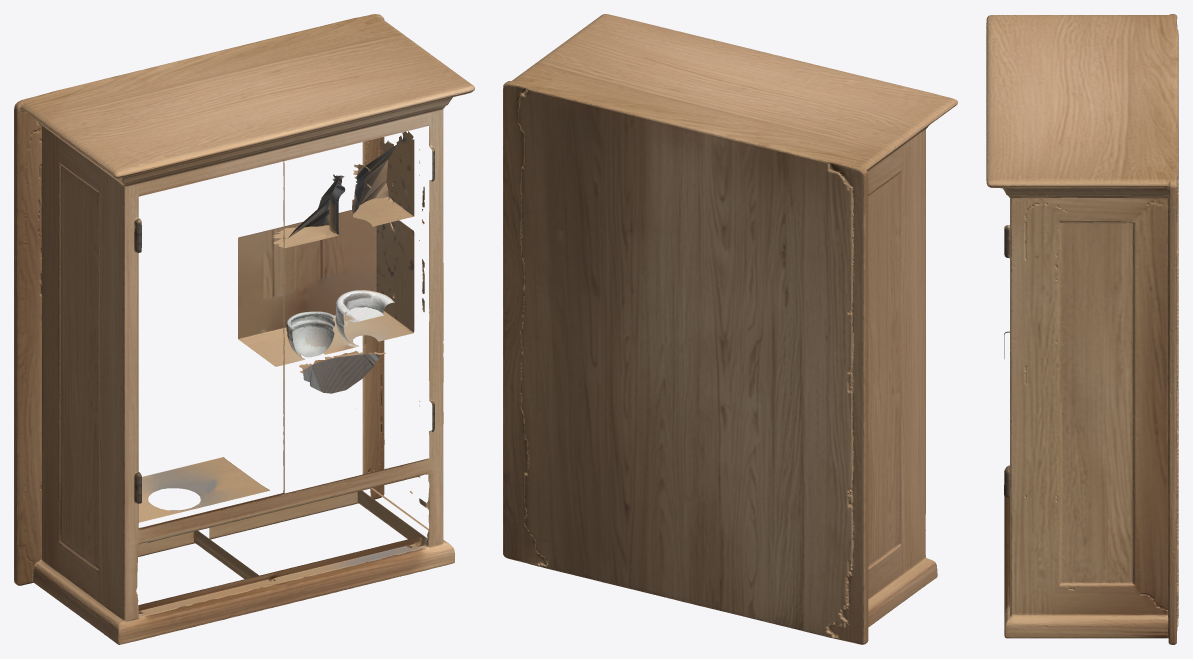
The model's file is body.glb.
3 views of the same model, side by side, from view 1: azimuth 30°, elevation 25°; view 2: azimuth 150°, elevation 25°; view 3: azimuth 270°, elevation 25° (orthographic). The views are drawn at different scales.
Parts seen in each view (by area): view 1: source_surface_0; view 2: source_surface_0; view 3: source_surface_0.
Boxes of the visible parts, box(x1,y1,x2,y2) form: source_surface_0: box(14, 14, 474, 644); source_surface_0: box(503, 14, 957, 644); source_surface_0: box(986, 14, 1178, 644).
Bounding box in the file's own units: 0.8766 × 1.1 × 0.4138.
Materials: 1 (1 with a texture image).
